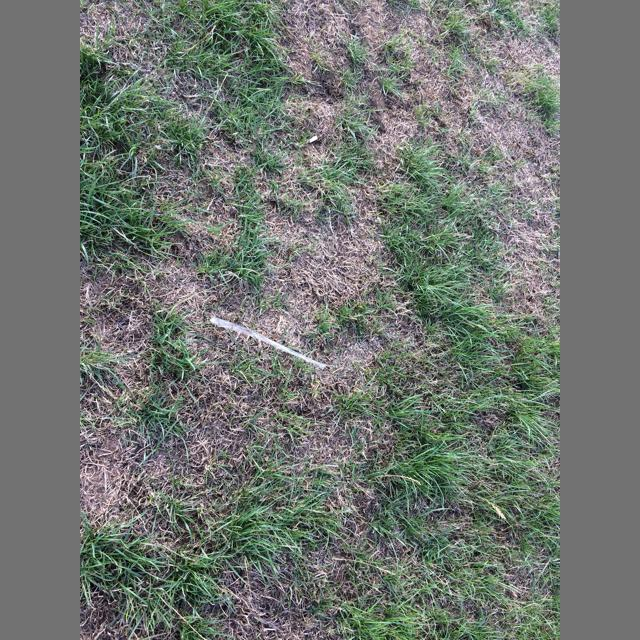litter: (210, 317, 325, 369), (310, 136, 317, 144)
